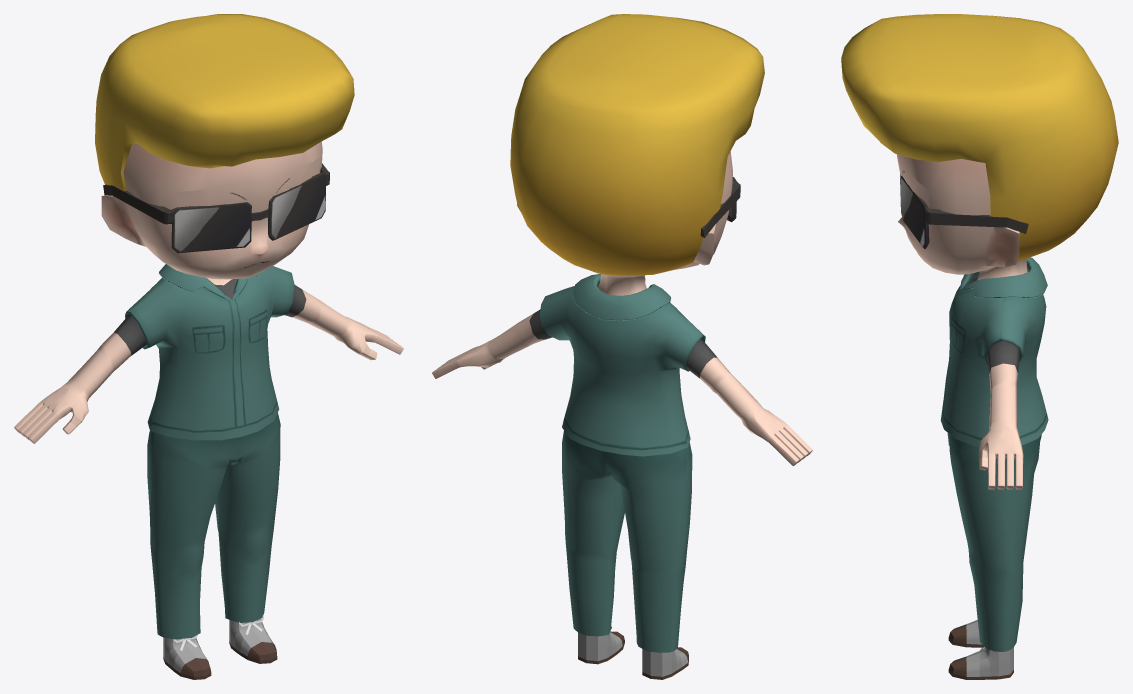
File: Enemy_UV.fbx
3 renders of one model, left to right at view 1: azimuth 30°, elevation 25°; view 2: azimuth 150°, elevation 25°; view 3: azimuth 270°, elevation 25°, orthographic. The views are drawn at different scales.
Visible parts, largest first — view 1: enamy; view 2: enamy; view 3: enamy.
Boxes of the visible parts, box(x1,y1,x2,y2) form: enamy: box(14, 14, 403, 679); enamy: box(432, 14, 812, 679); enamy: box(841, 14, 1118, 679).
Bounding box in the file's own units: 21.39 × 33.67 × 13.84.
